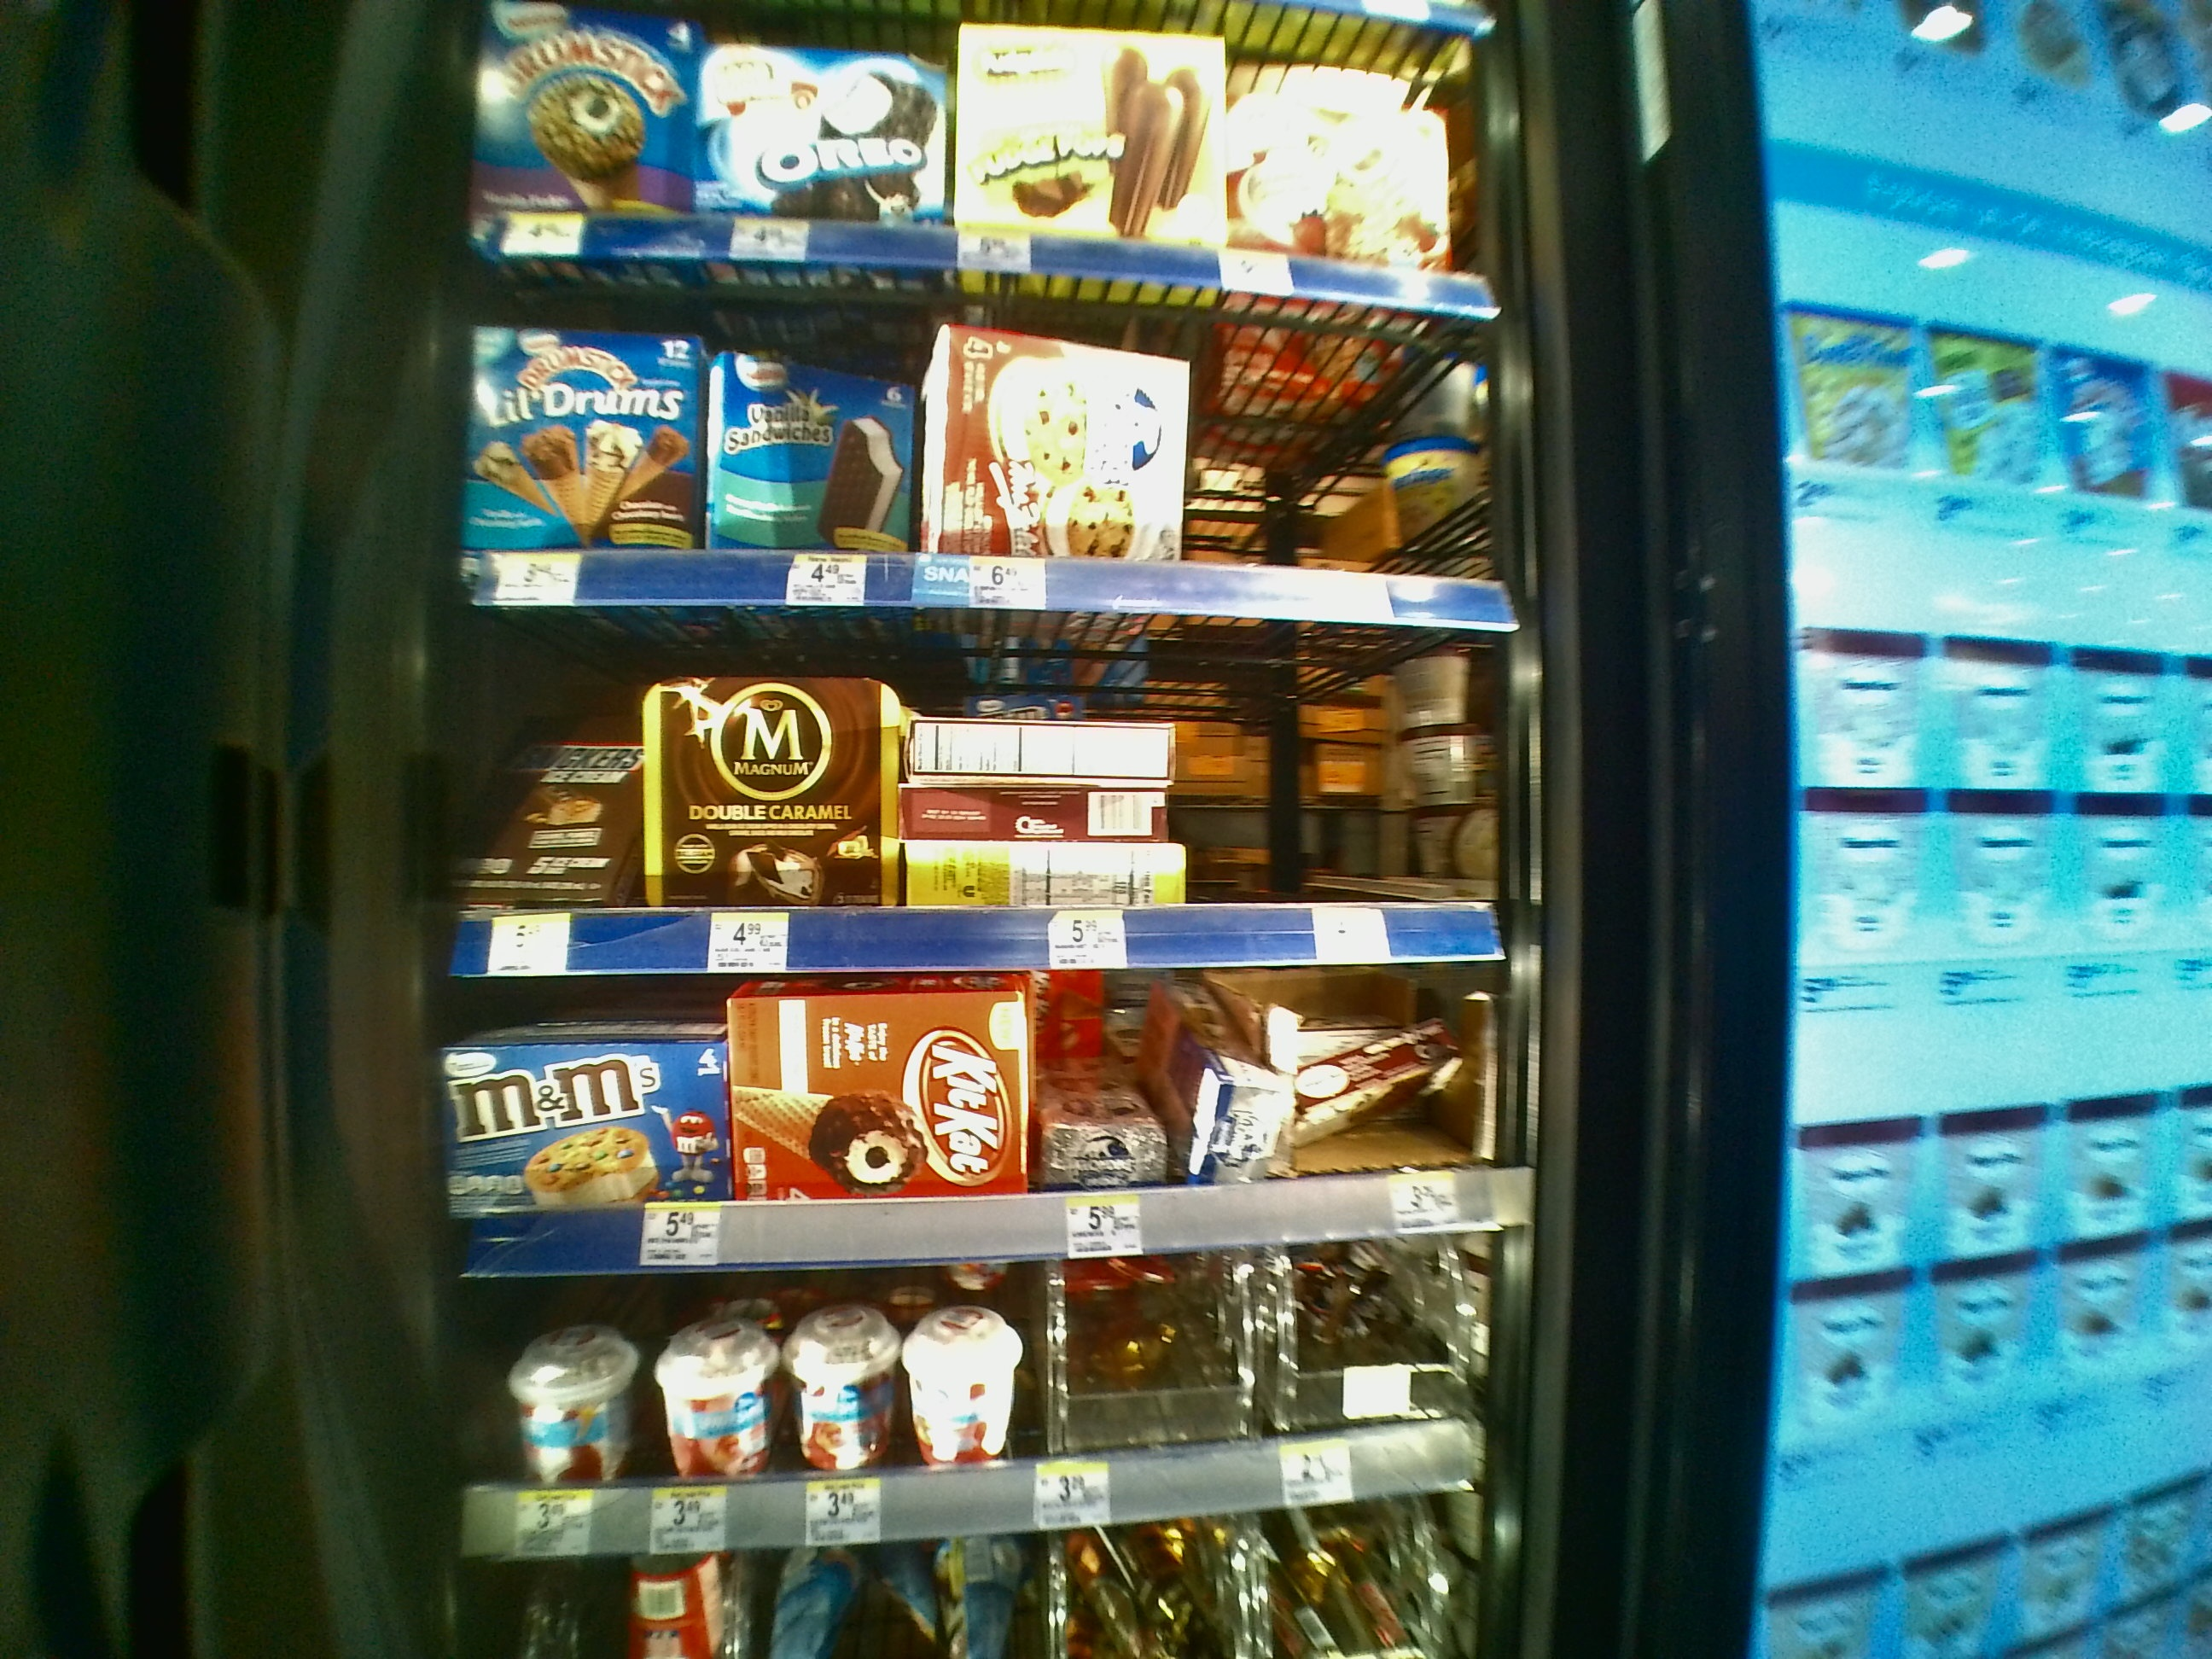shelf: (465, 267, 1526, 608), (455, 627, 1501, 962), (451, 988, 1521, 1263), (456, 1293, 1526, 1549)
